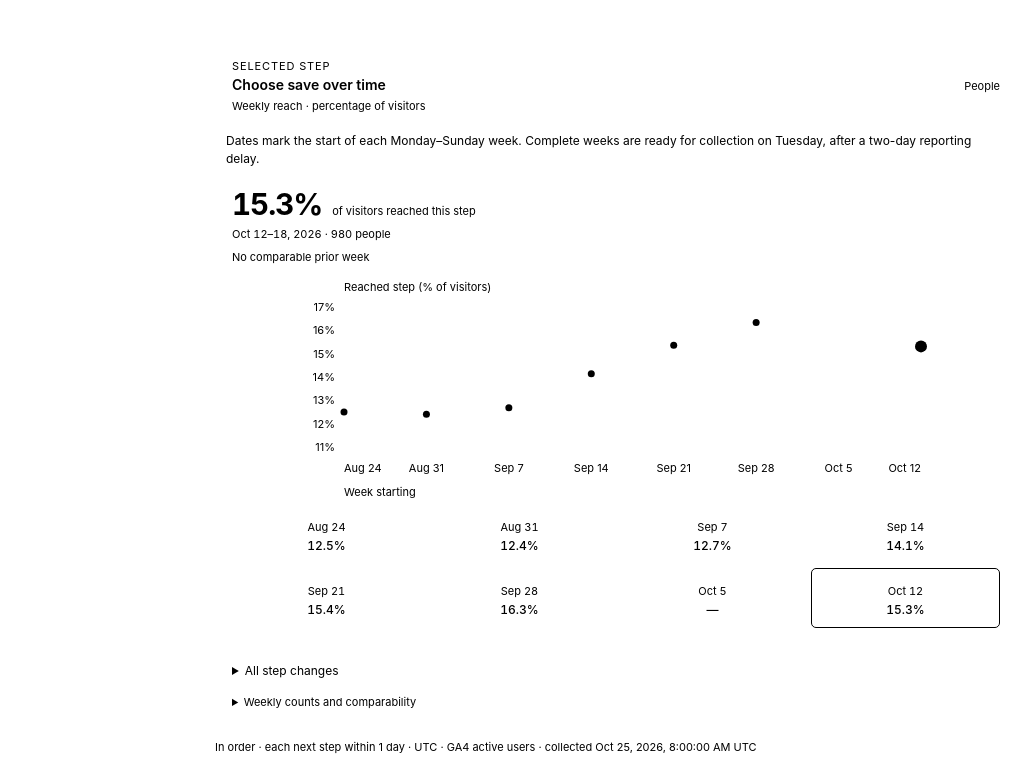
Test case: JourneyMonitor › keeps an unavailable week as a gap without switching the history's visitor baseline
(page scrolled)
Click the button with aria-label "Oct 5–11, 2026: — of visitors reached Choose save": click(712, 598) [618,568,807,628]
(page scrolled)
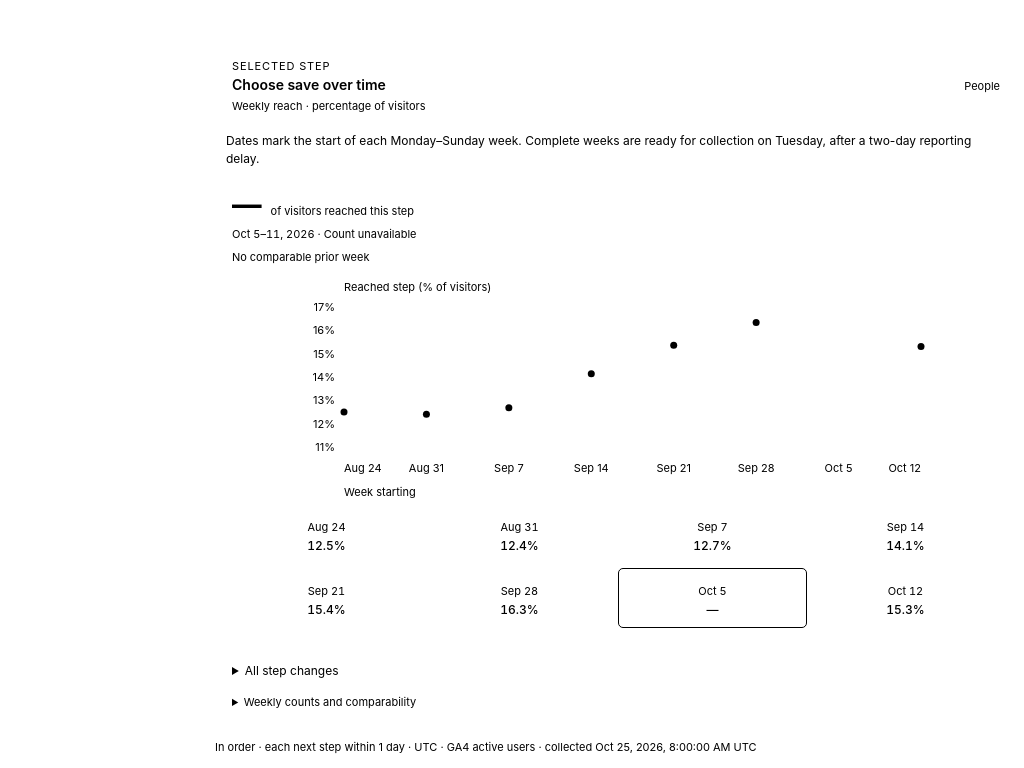
Expected: the picture named "Choose save: weekly percentage of visitors" is shown, [226,277,1006,502]
Result: the text "Count unavailable" is shown at [324,227,416,241]
